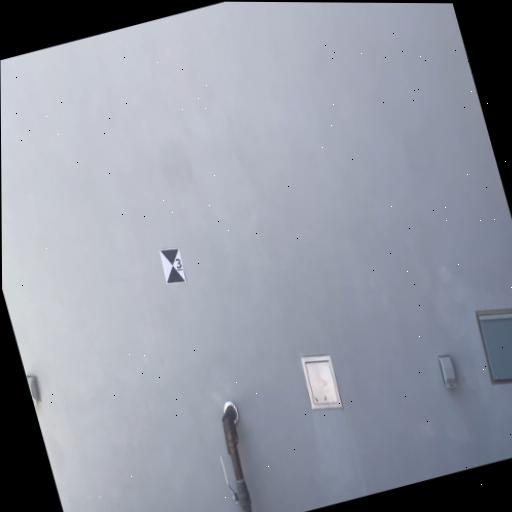target3: (159, 247, 186, 284)
